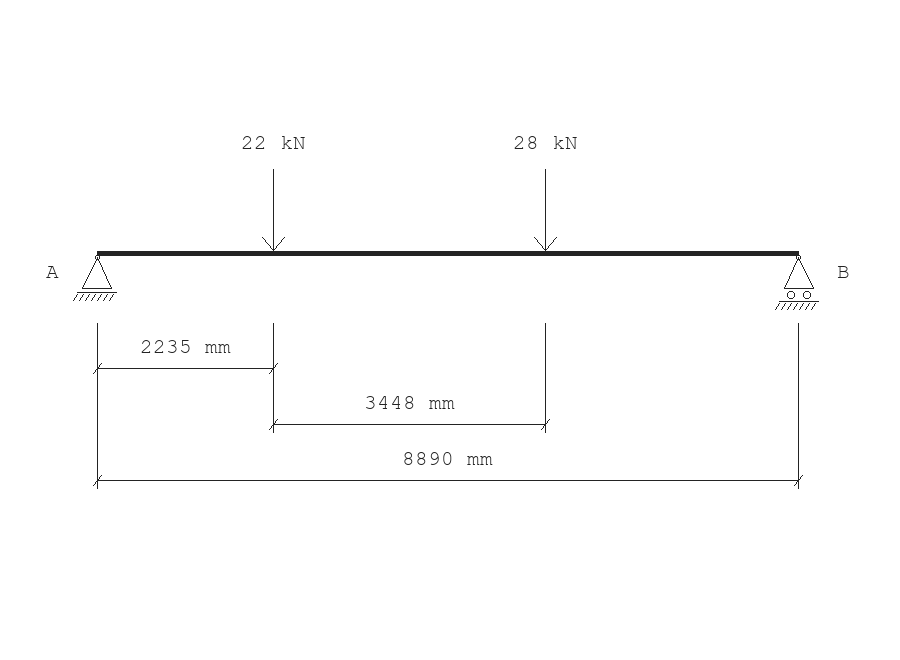pin_support: (73, 255, 117, 301)
point_load: (262, 169, 285, 251), (534, 169, 557, 251)
roller_support: (775, 255, 819, 310)
